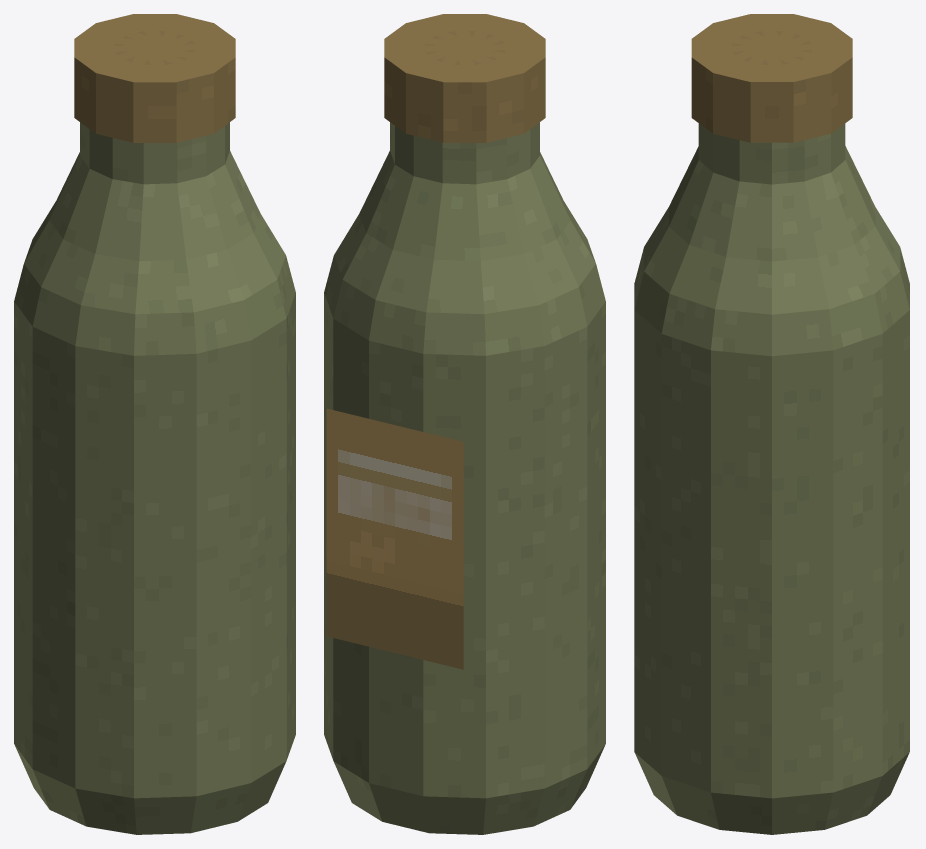
File: mead.glb
3 views of the same model, side by side, from view 1: azimuth 30°, elevation 25°; view 2: azimuth 150°, elevation 25°; view 3: azimuth 270°, elevation 25° (orthographic).
Visible parts, largest first — view 1: block_bottle silhouette, block_foil cap; view 2: block_bottle silhouette, block_drink label, block_foil cap; view 3: block_bottle silhouette, block_foil cap.
Part boxes in pixels (x1,y1,x2,y2): block_bottle silhouette: (14,122,295,834); block_foil cap: (74,14,235,142); block_bottle silhouette: (324,122,605,834); block_drink label: (326,408,463,669); block_foil cap: (384,14,545,142); block_bottle silhouette: (634,123,909,834); block_foil cap: (691,14,852,142).
Size of the model in its own units: 0.057 by 0.1638 by 0.0559.
Materials: 1 (1 with a texture image).
